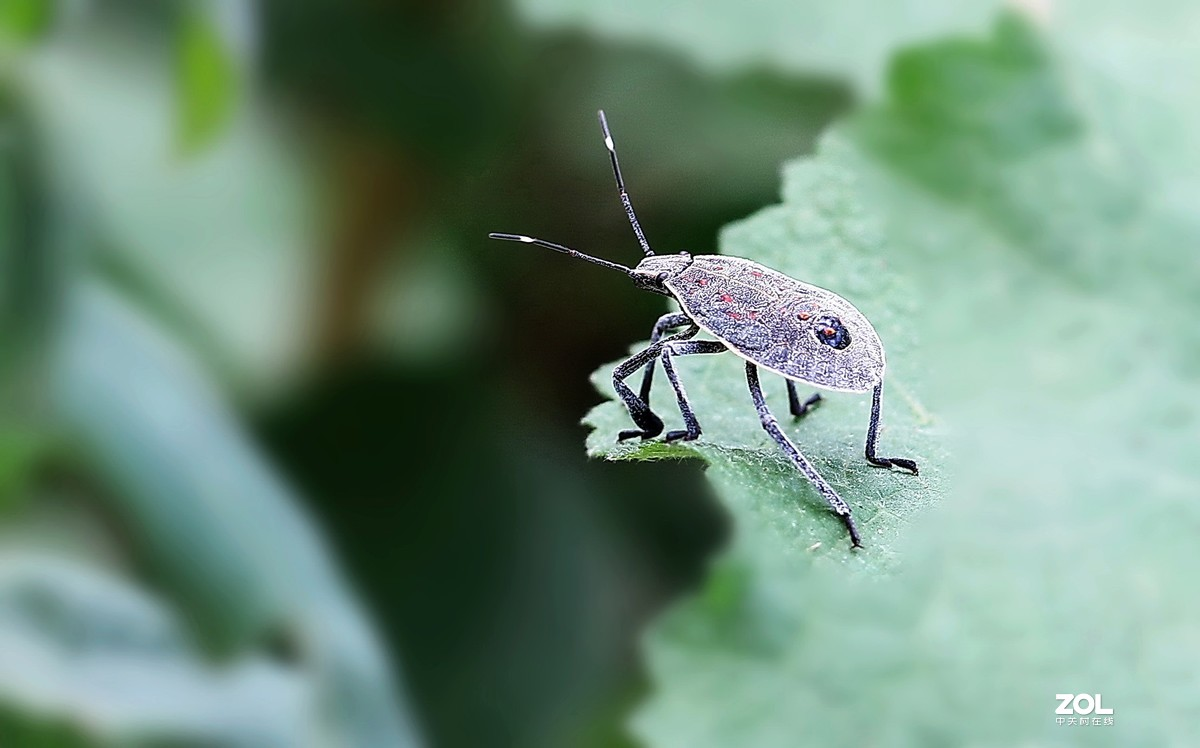chunchong: (568, 224, 914, 518)
